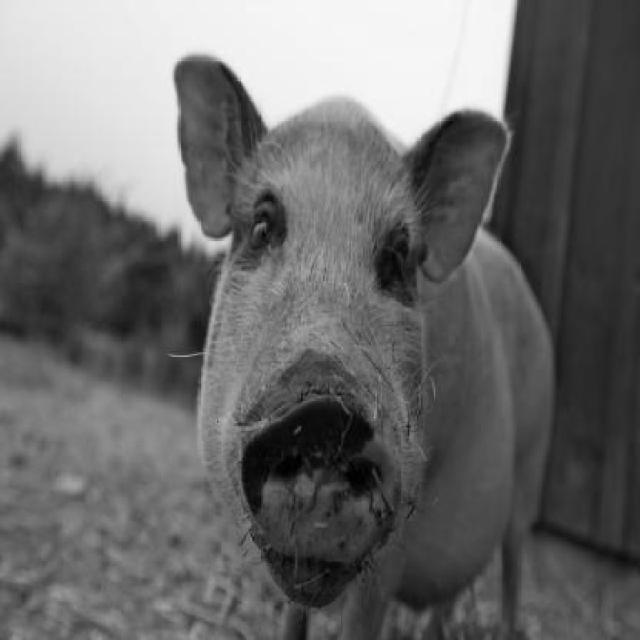Boar: (166, 52, 554, 640)
